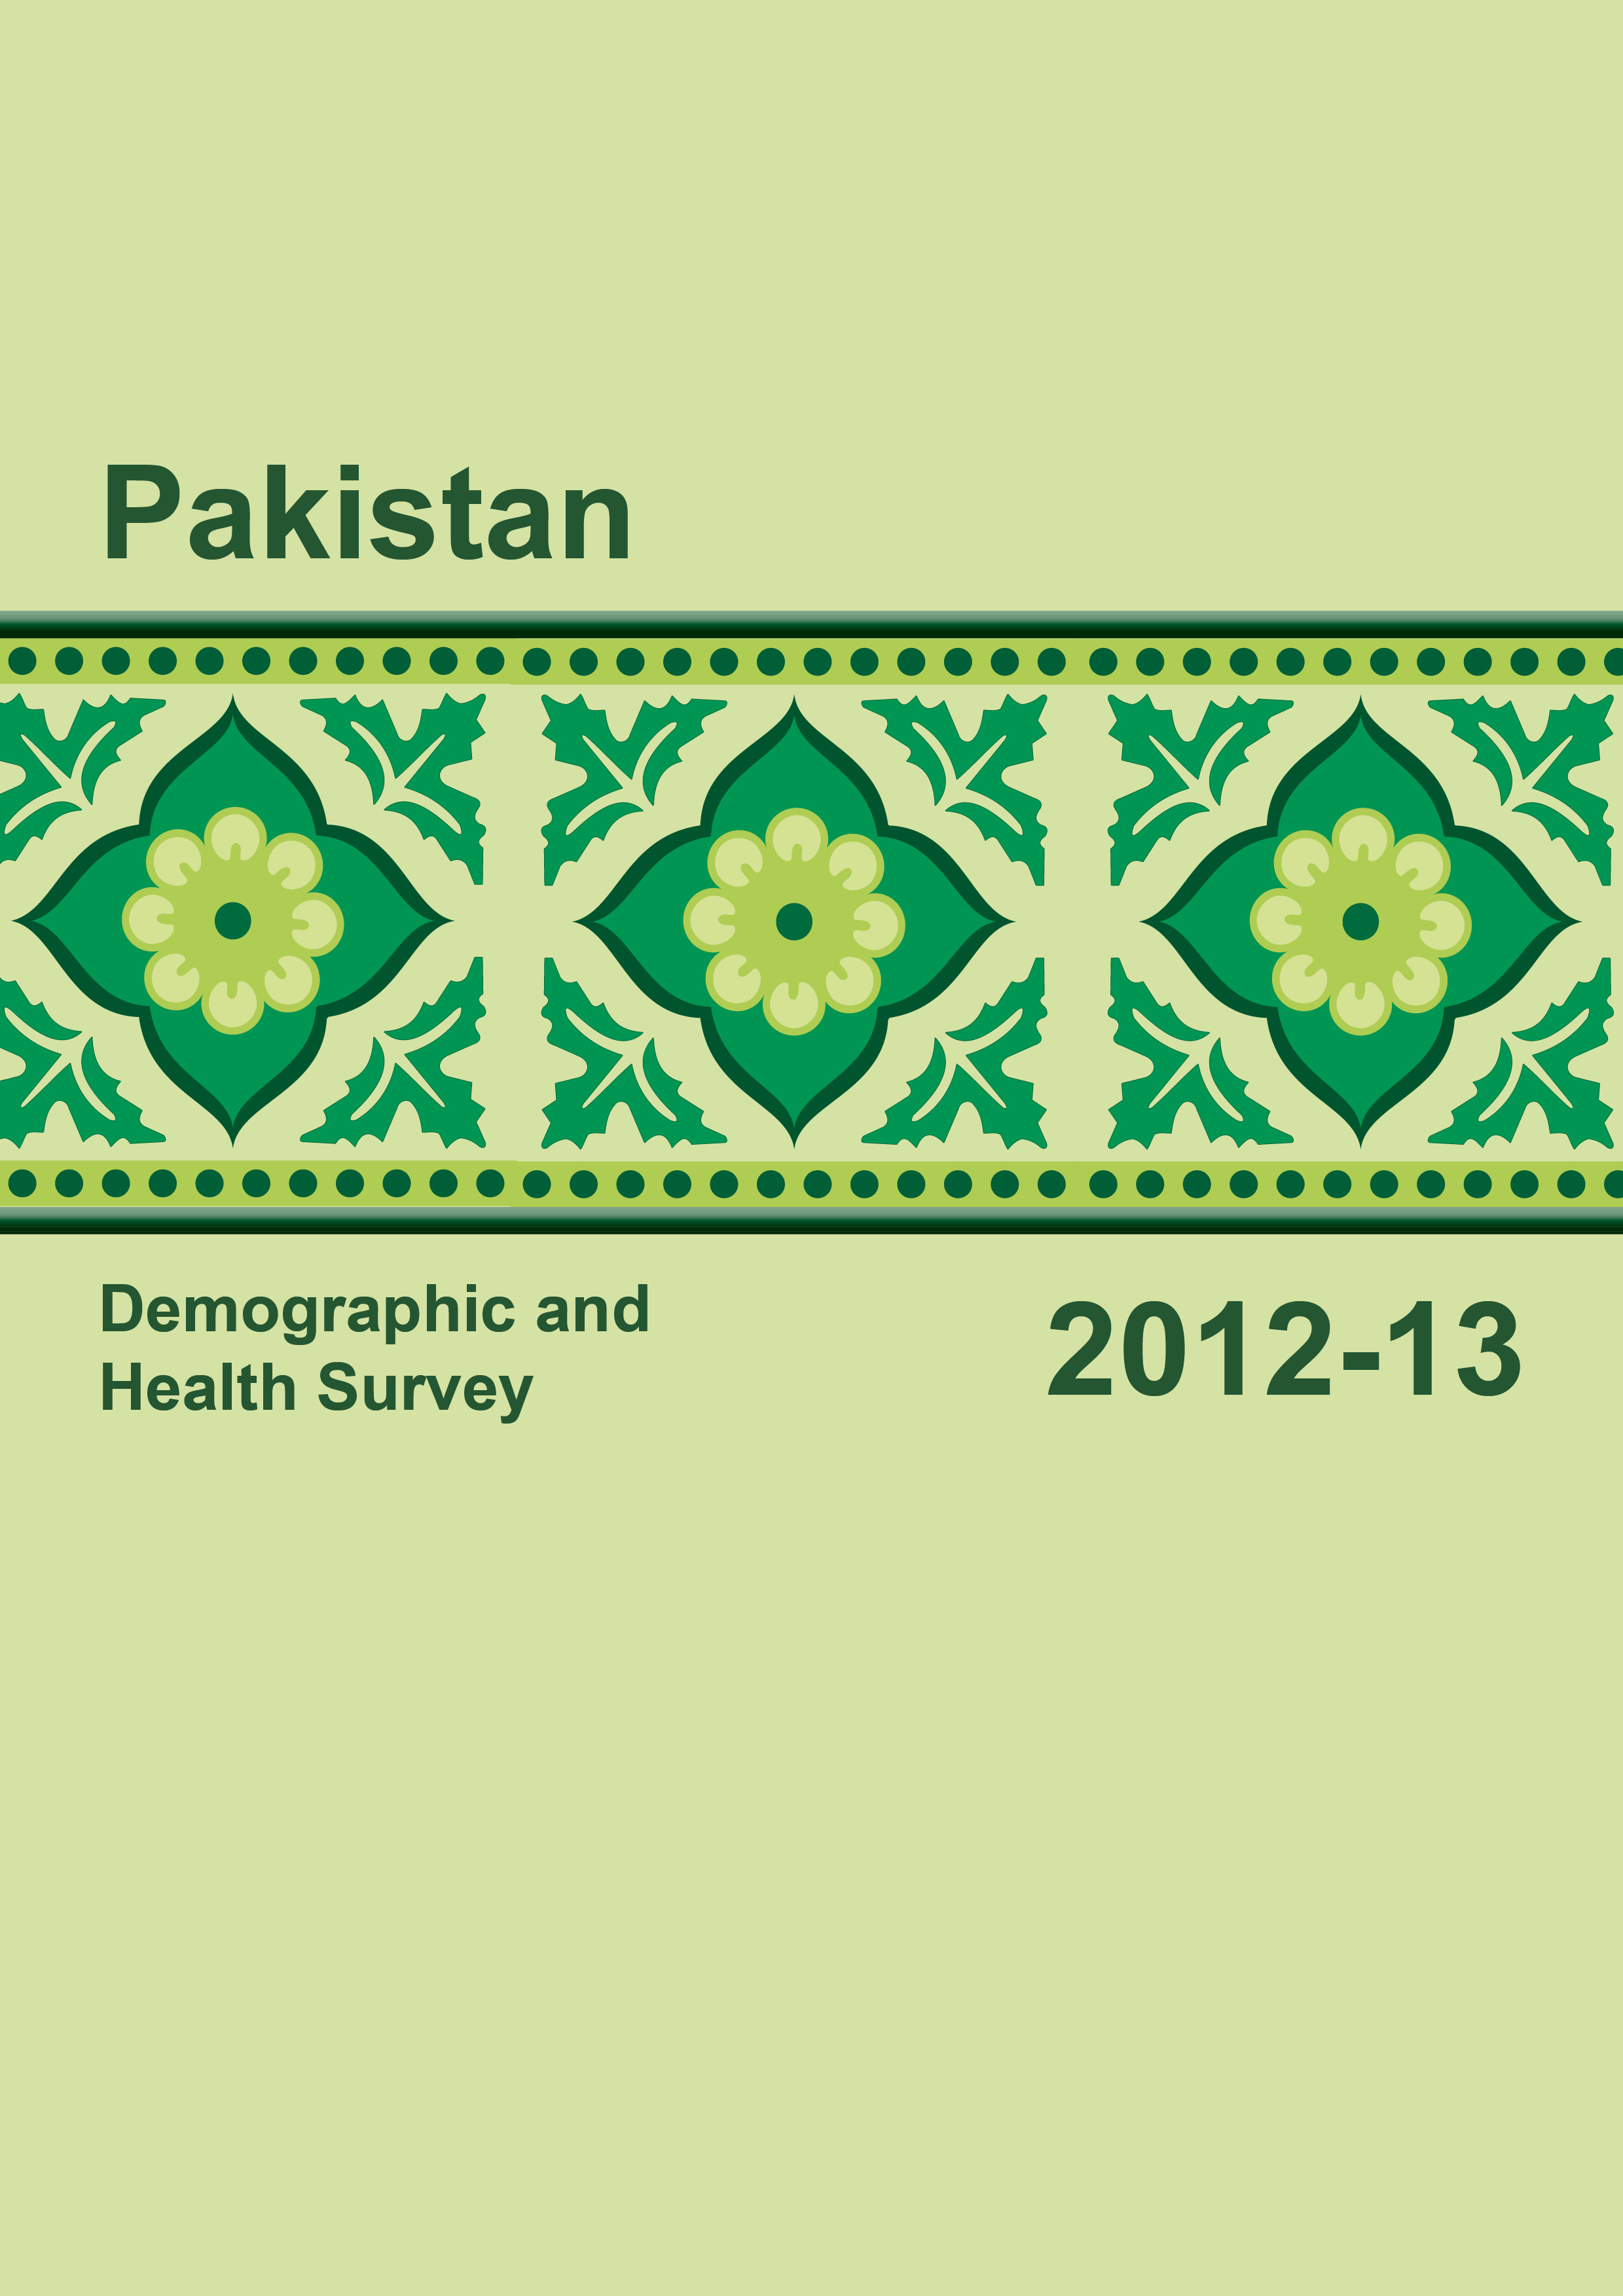figure: (0, 606, 1614, 1222)
section: (81, 405, 669, 595), (1029, 1278, 1586, 1441)
text: (91, 1267, 659, 1446)
